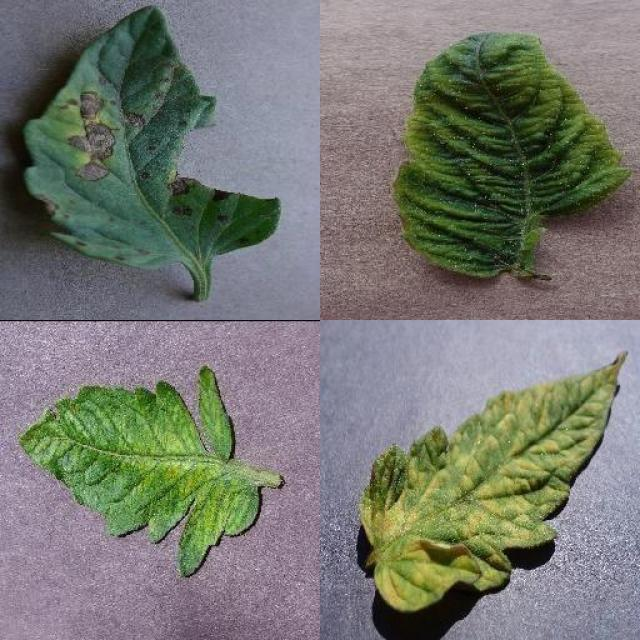Early Blight: (26, 5, 282, 264)
